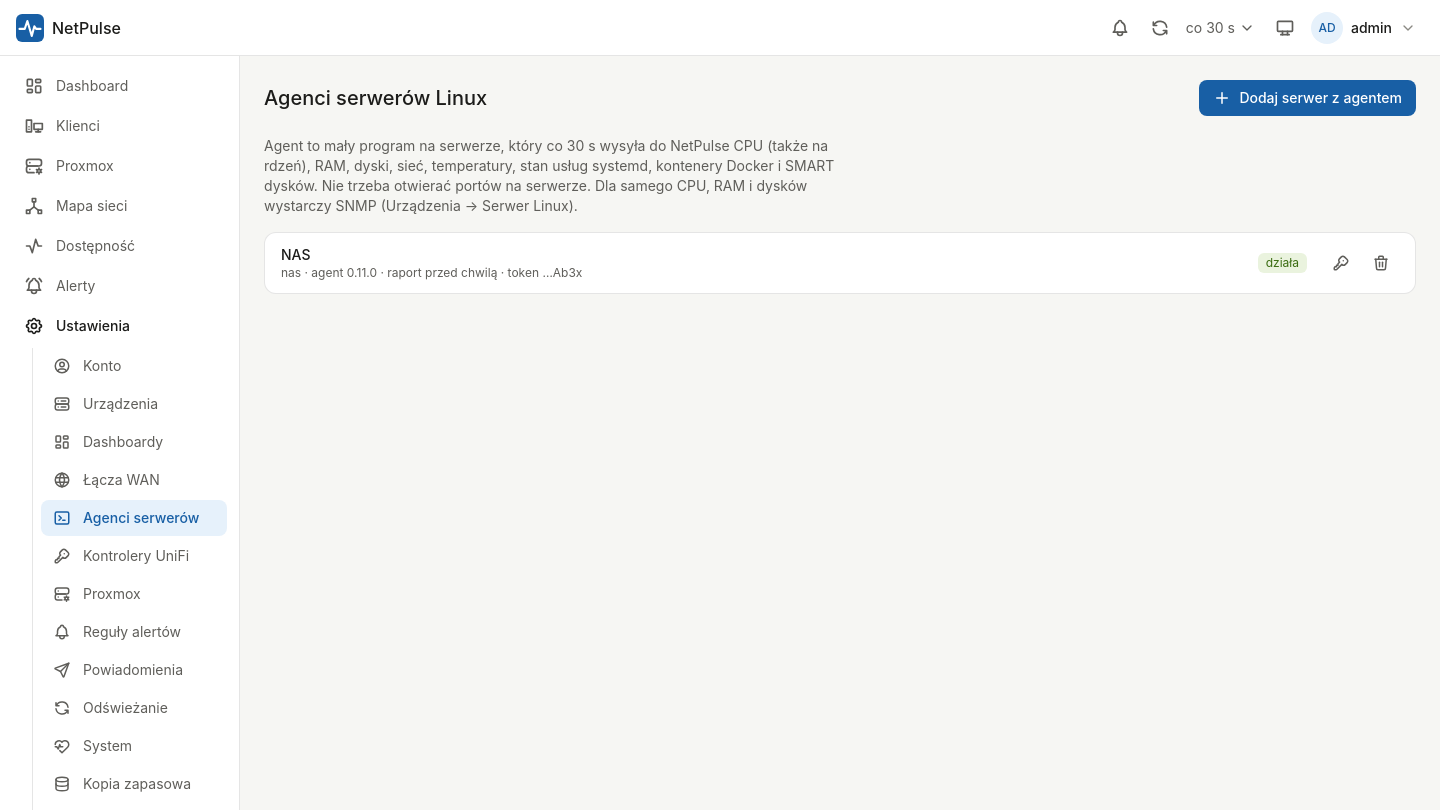
Test case: Ustawienia → Agenci › usunięcie serwera podpowiada, jak odinstalować agenta
What coordinates should you click on to do the following:
click the button named "Usuń NAS"
I would click on:
 (1381, 263)
Its box is [1363,245,1399,281].
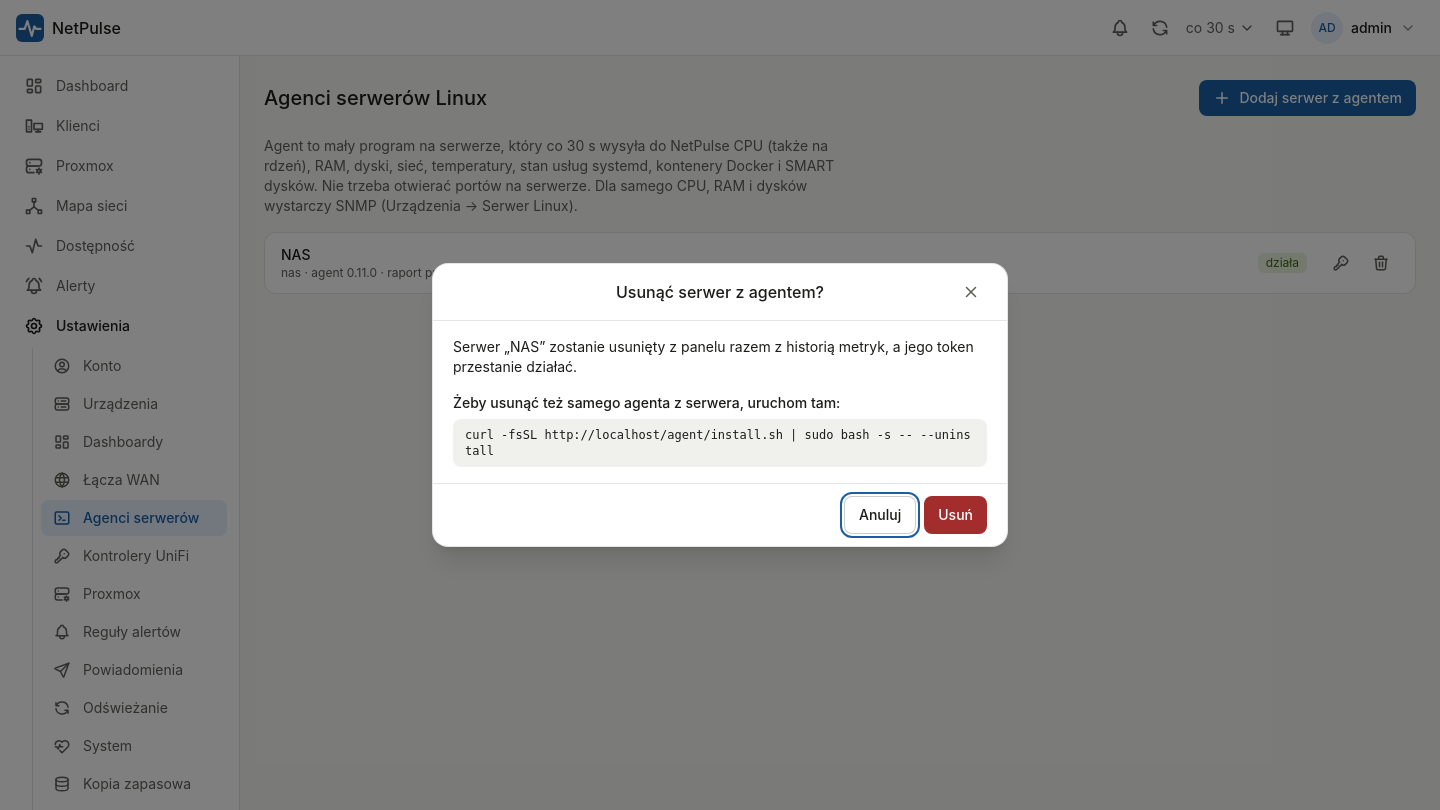
What coordinates should you click on to do the following:
click the button "Usuń"
I would click on:
 (956, 515)
Its box is [924,496,987,534].
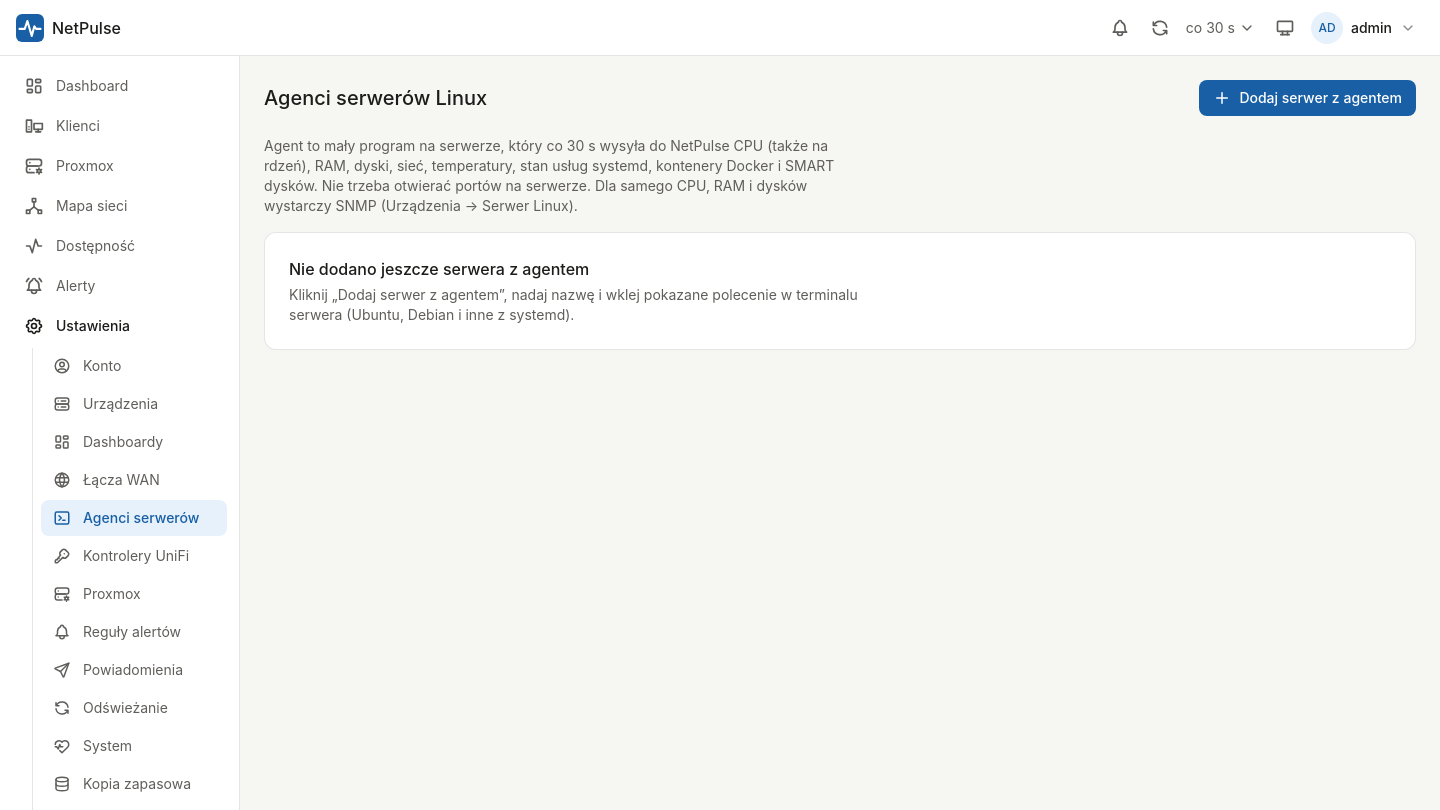
Result: the heading "Nie dodano jeszcze serwera z agentem" is shown at [289,259,589,279]
